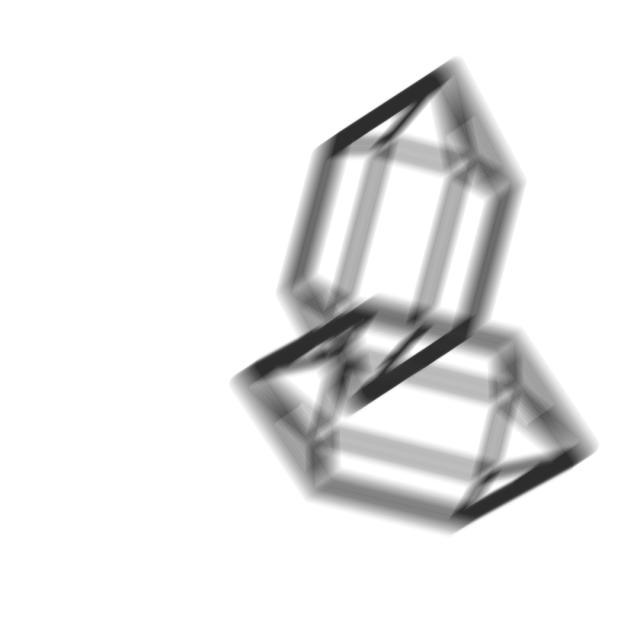crystal: (271, 50, 539, 418), (226, 290, 614, 542)
